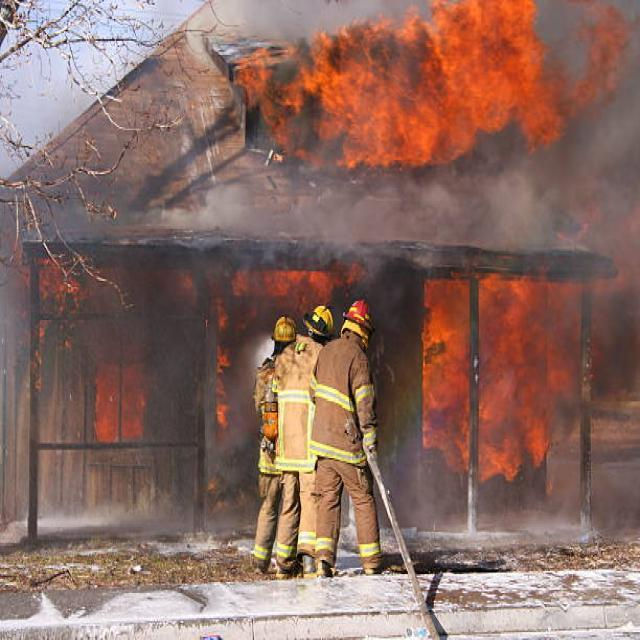Fire: (227, 0, 640, 164), (425, 276, 595, 480), (216, 261, 365, 321), (94, 357, 151, 457)
